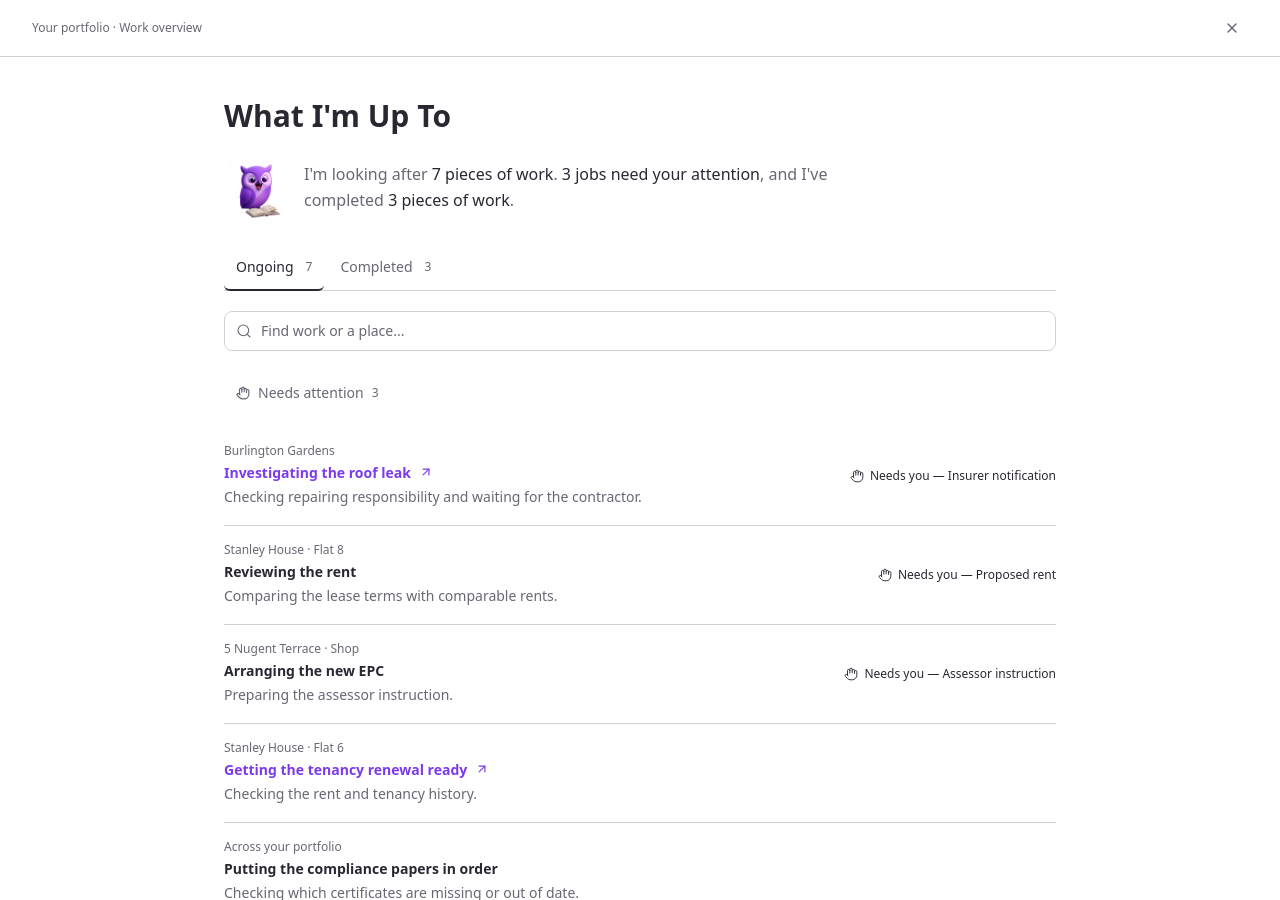
Test: Illustrative work journey › browses subtasks without starting work or sending instructions
The width and height of the screenshot is (1280, 900).
Later steps or results of the test are not shown.
Click the button "Getting the tenancy renewal ready" at (357, 769), box [224,760,489,779]
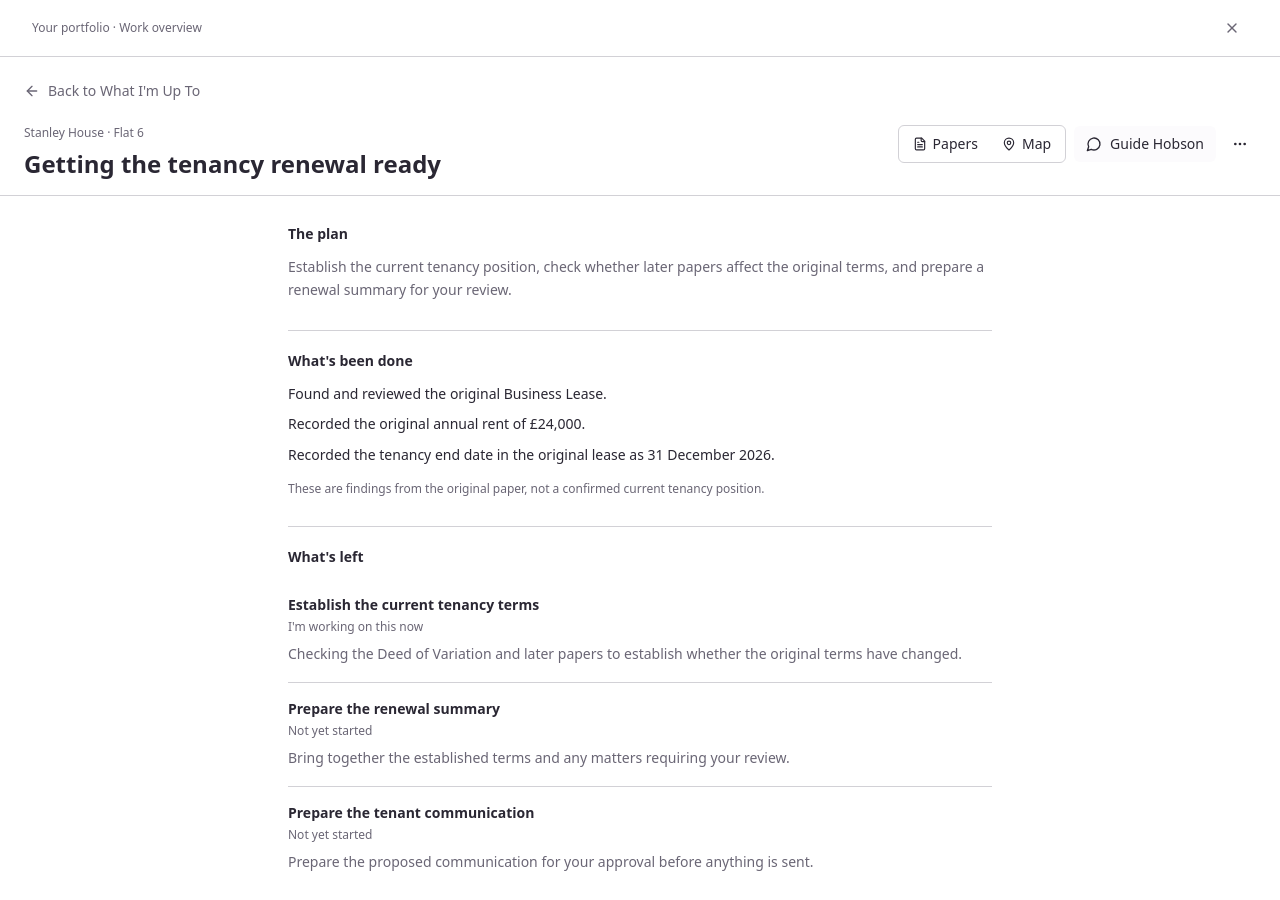
Click the button "Establish the current tenancy terms" at (414, 605), box [288,579,992,682]
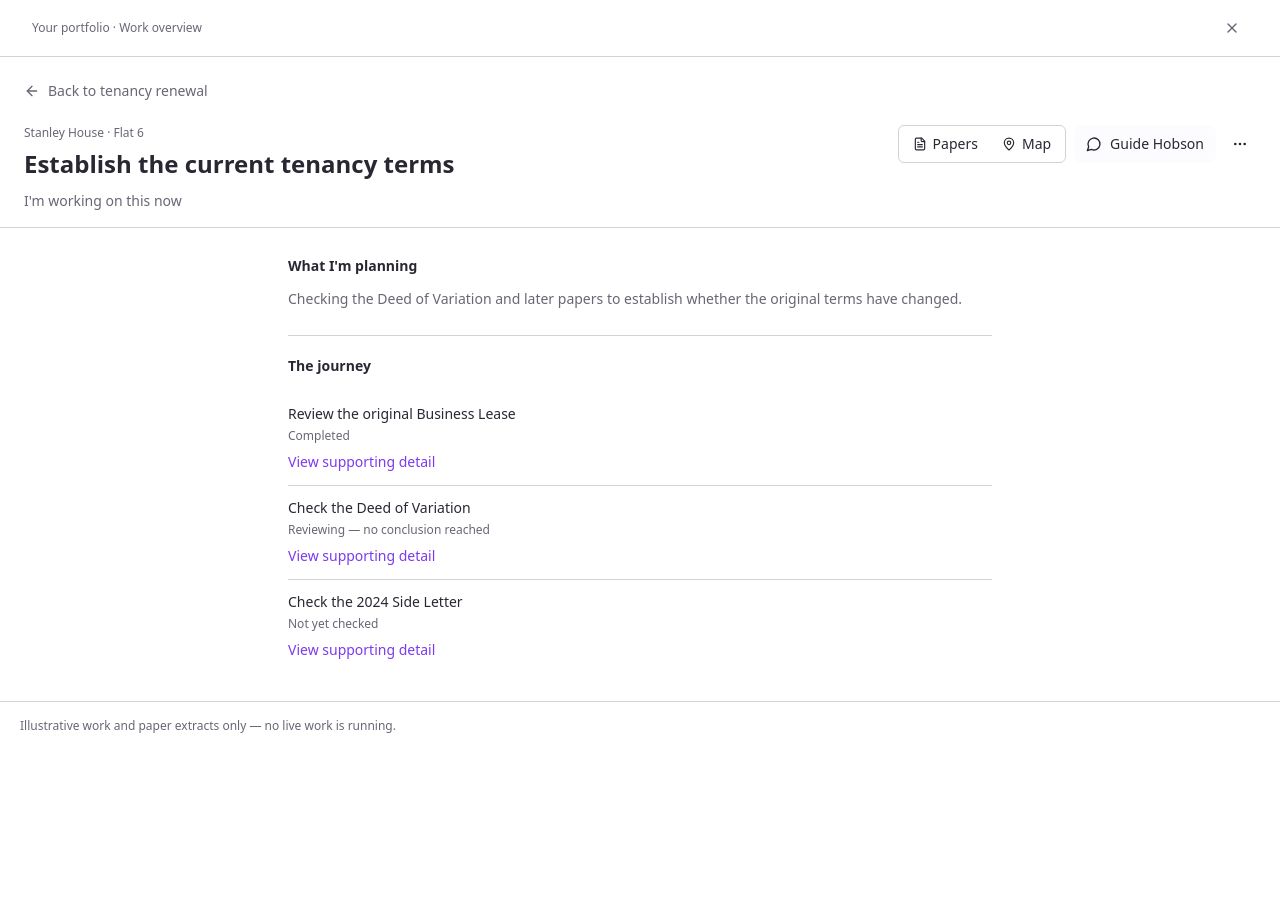
Check: the heading "Establish the current tenancy terms" is shown, box [24,147,454,180]
Click the button "Back to tenancy renewal" at (116, 91), box [24,73,208,109]
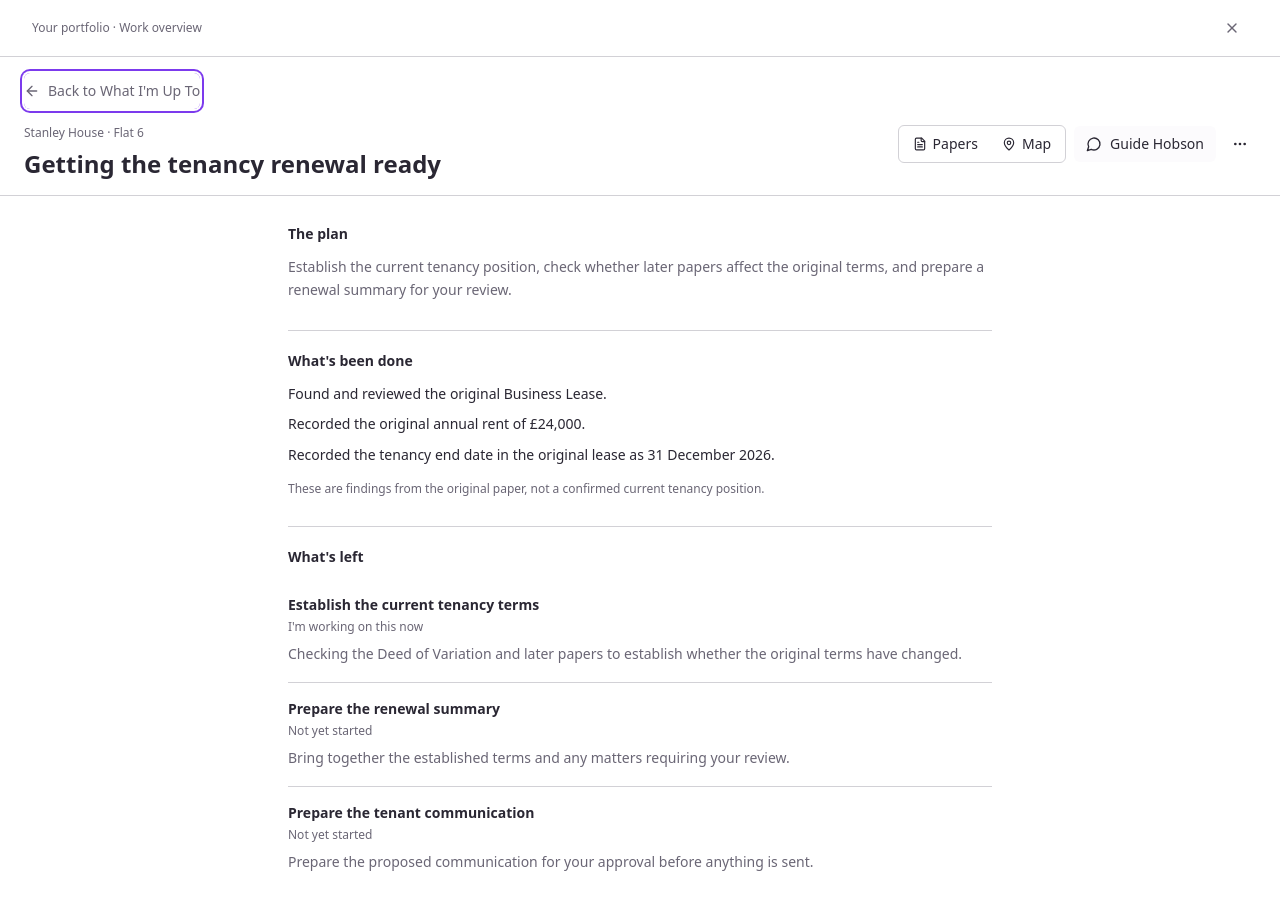
Click the button "Prepare the renewal summary" at (394, 708), box [288,682,992,786]
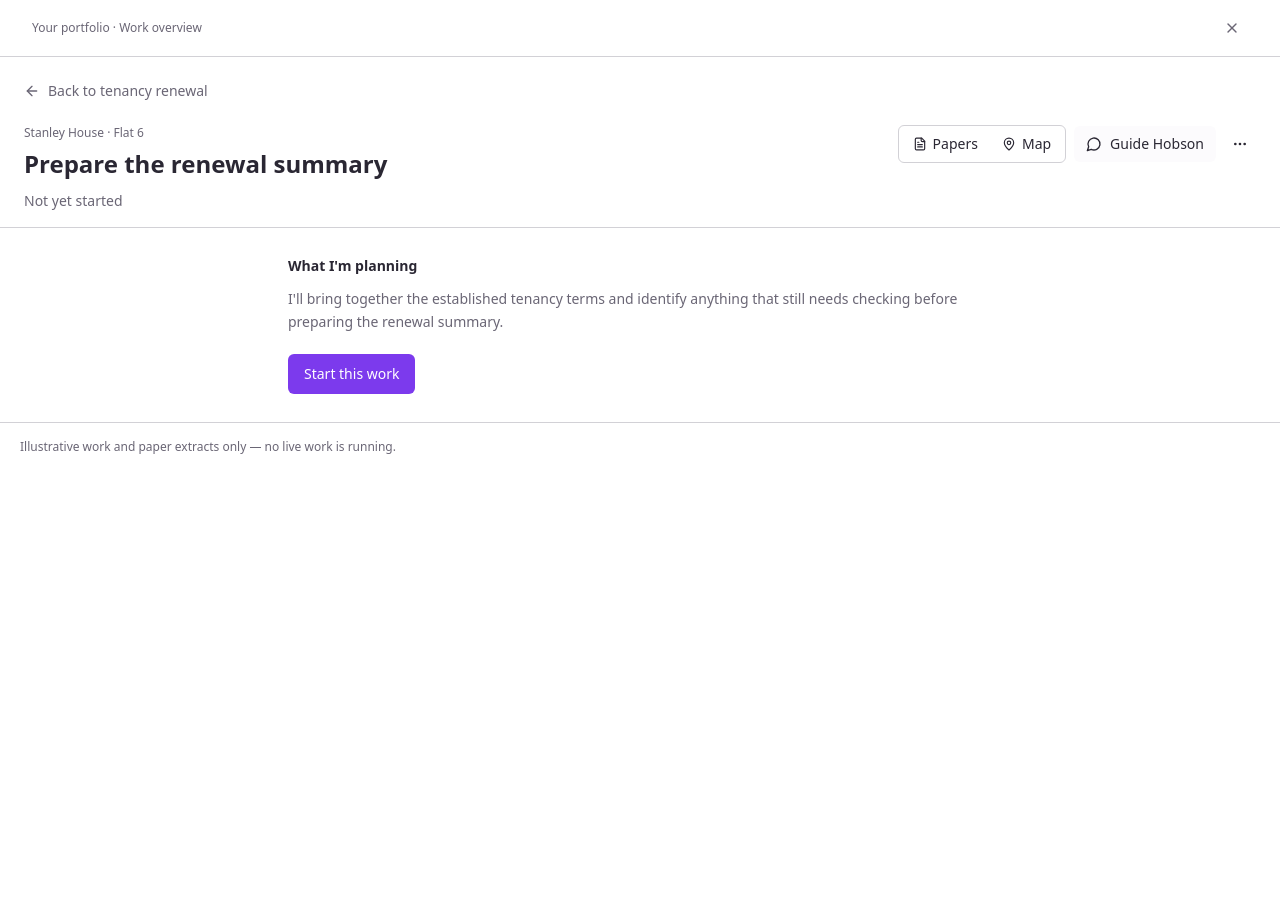
Check: the heading "Prepare the renewal summary" is shown, box [24,147,387,180]
Click the button "Back to tenancy renewal" at (116, 91), box [24,73,208,109]
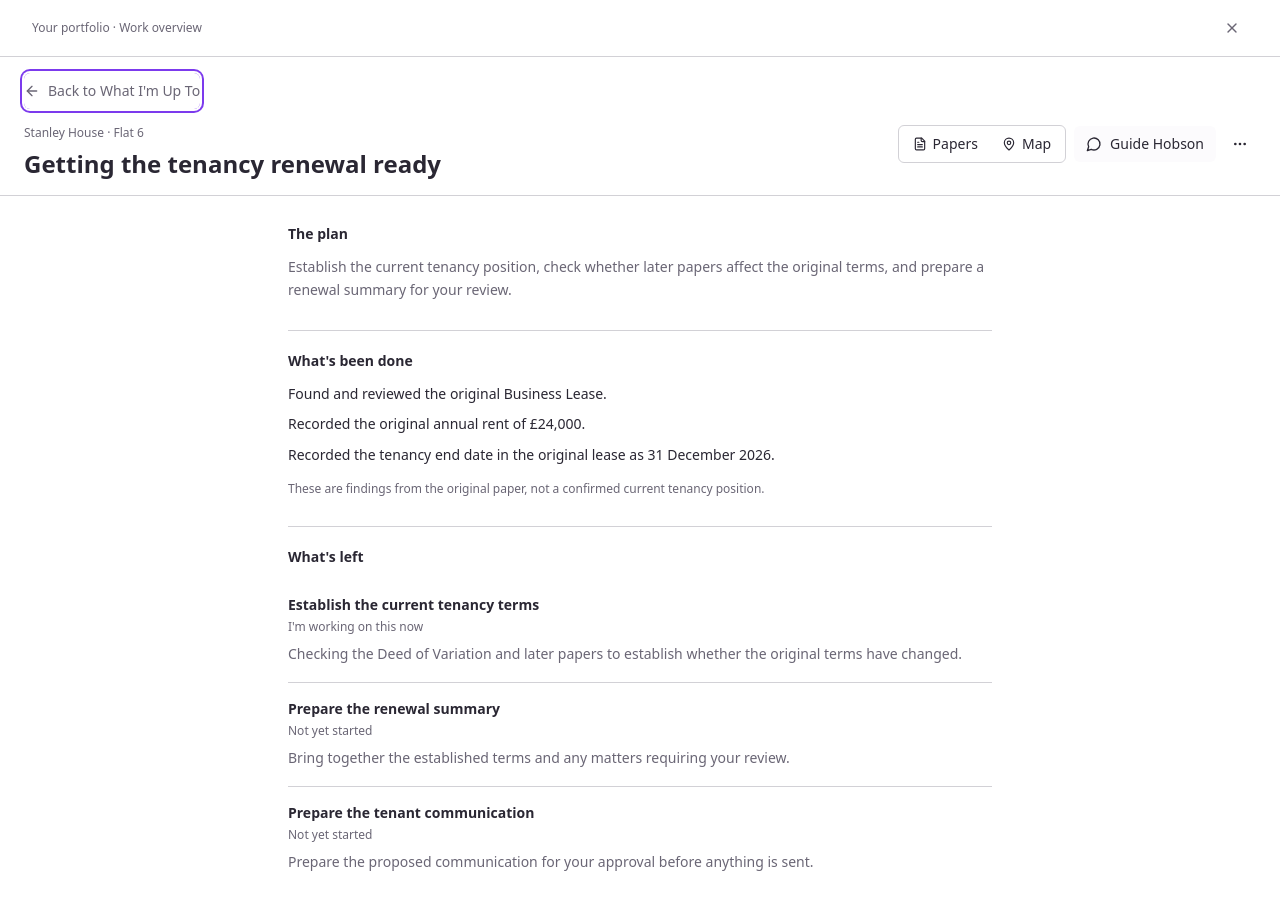
Click the button "Prepare the tenant communication" at (411, 812), box [288,786,992,890]
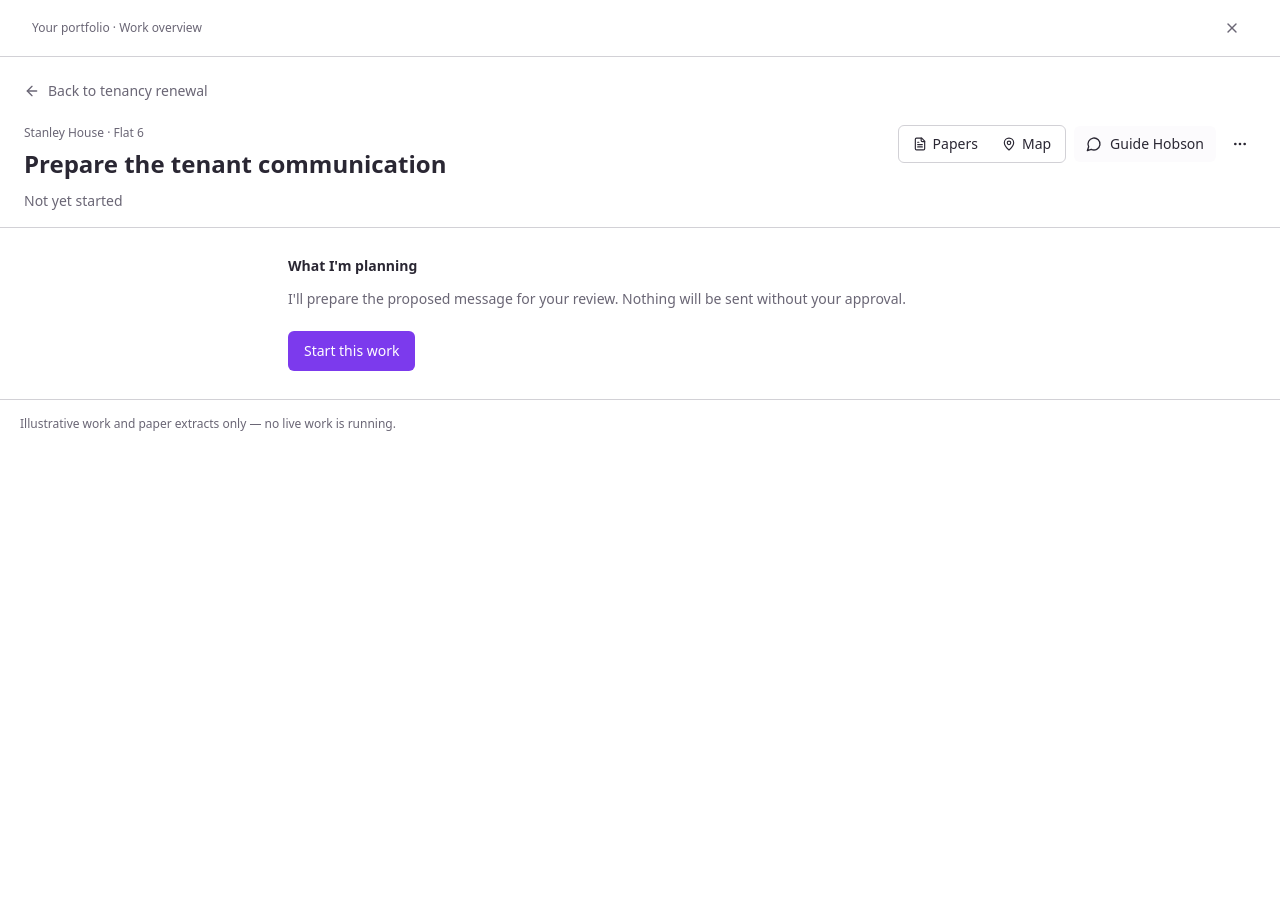
Check: the heading "Prepare the tenant communication" is shown, box [24,147,446,180]
